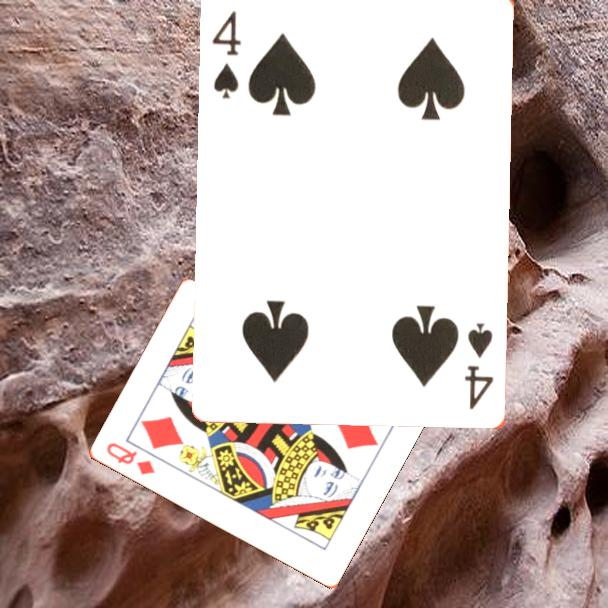d12: (102, 439, 157, 478)
s04: (209, 8, 245, 102), (461, 320, 497, 413)
